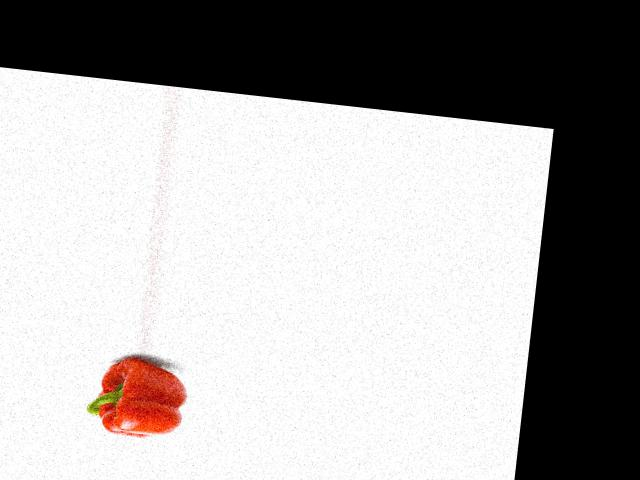bell_pepper: (78, 354, 198, 442)
